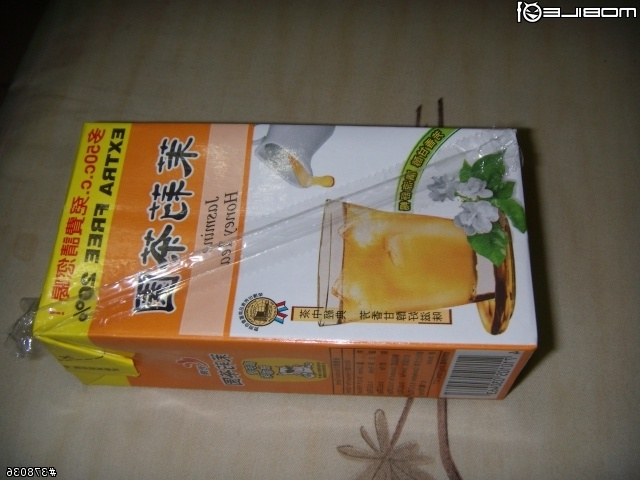鋁箔包: (23, 120, 545, 401)
